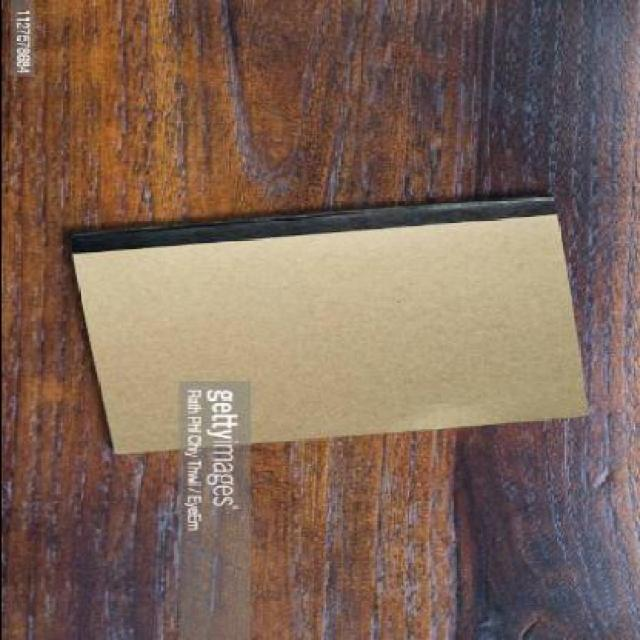book: (62, 128, 605, 542)
